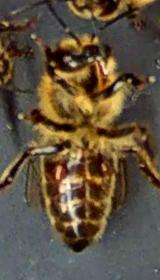varroa_mite: (44, 154, 78, 186), (93, 151, 124, 185)
